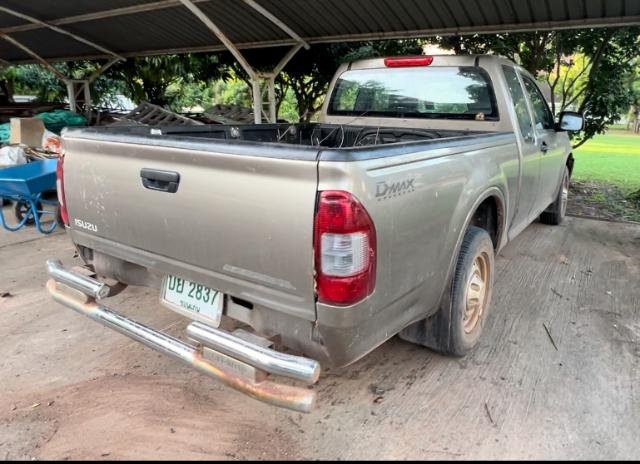pickup-truck: (45, 51, 585, 416)
